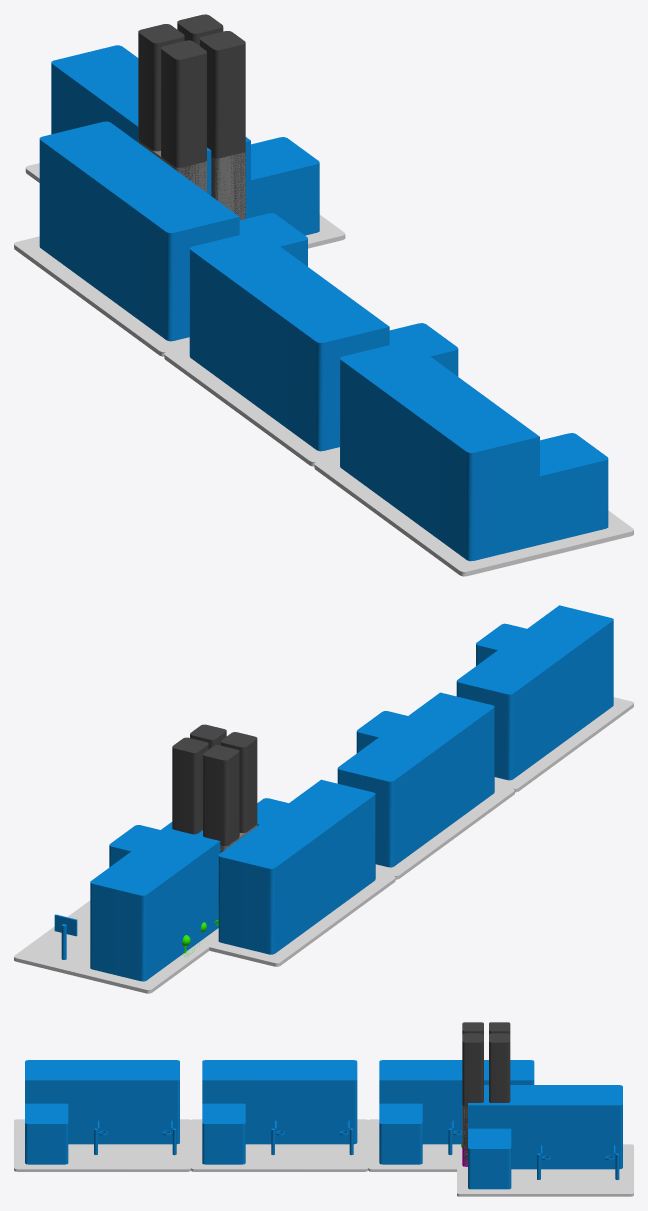
The model's file is Map.gltf.
3 views of the same model, one above another, from view 1: azimuth 30°, elevation 25°; view 2: azimuth 150°, elevation 25°; view 3: azimuth 270°, elevation 25° (orthographic). The views are drawn at different scales.
Visible parts, largest first — view 1: School_2x3 (×4), Work_1x1, ABloc_1x1; view 2: School_2x3 (×4), Work_1x1; view 3: School_2x3 (×4), Work_1x1.
Part boxes in pixels (x1,y1,x2,y2): School_2x3 (×4): (14,45,633,576); Work_1x1: (138,14,245,219); ABloc_1x1: (138,140,245,219); School_2x3 (×4): (14,605,633,993); Work_1x1: (172,724,257,852); School_2x3 (×4): (14,1060,633,1196); Work_1x1: (462,1022,510,1166).
Size of the model in its own units: 3 by 2.37 by 10.5.
